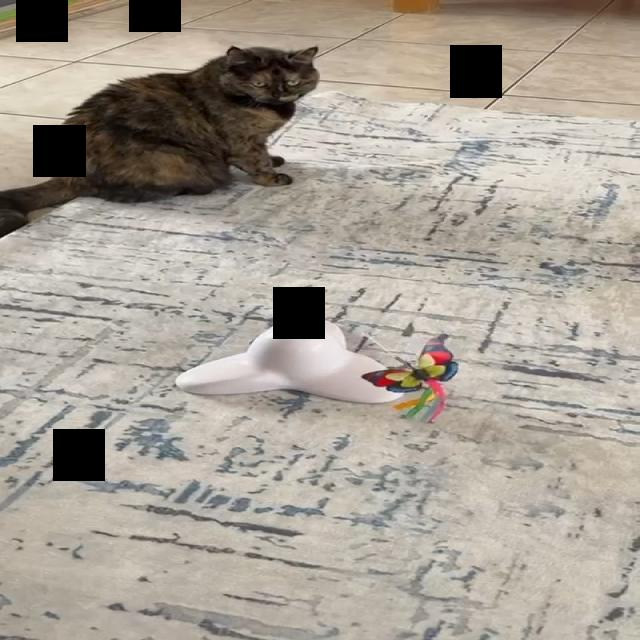authorized: (0, 44, 319, 239)
